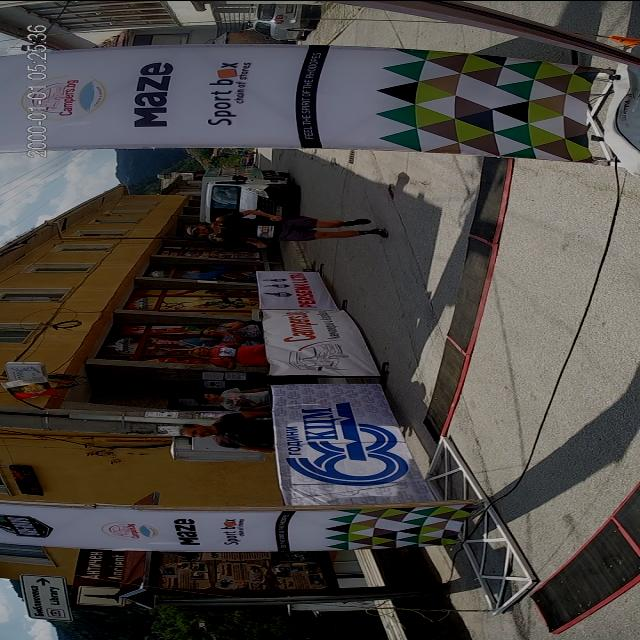runner: (175, 203, 390, 251)
